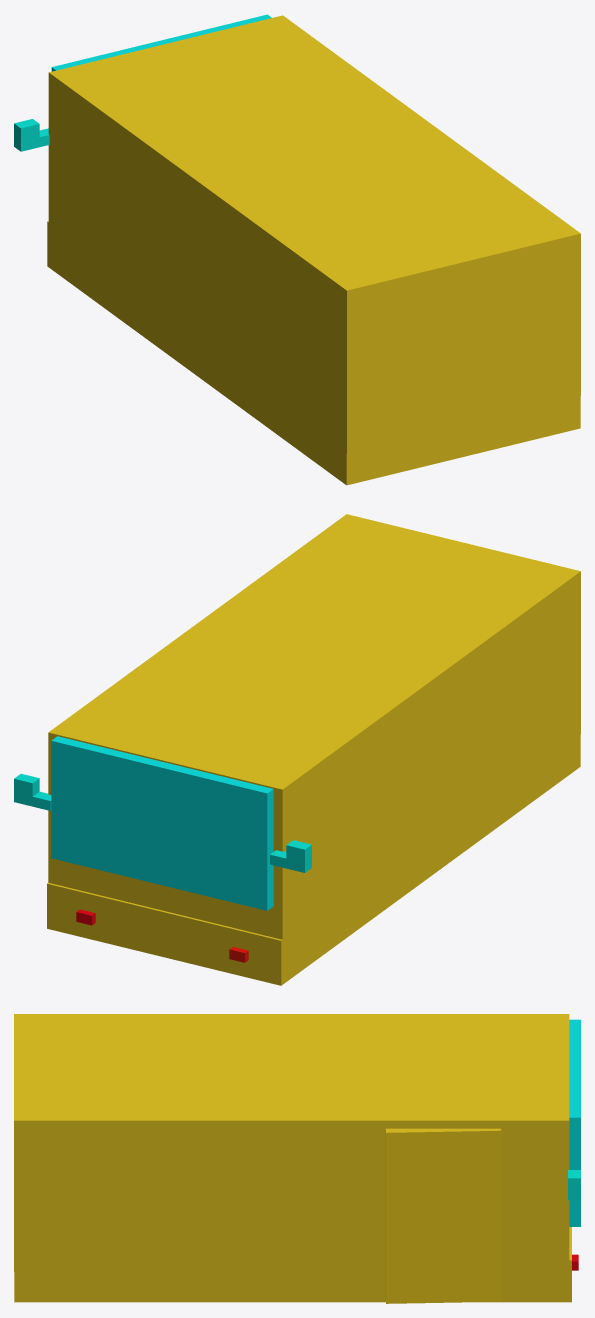
File: aftobus.fbx
The picture shows the model from 3 angles, top to bottom: view 1: azimuth 30°, elevation 25°; view 2: azimuth 150°, elevation 25°; view 3: azimuth 270°, elevation 25°; orthographic projection. The views are drawn at different scales.
Visible parts, largest first — view 1: Куб.006; view 2: Куб.006; view 3: Куб.006.
Boxes of the visible parts, bbox=[...] form: Куб.006: bbox=[14, 14, 580, 485]; Куб.006: bbox=[14, 514, 580, 985]; Куб.006: bbox=[14, 1014, 580, 1303].
Bounding box in the file's own units: 547 × 351 × 993.
